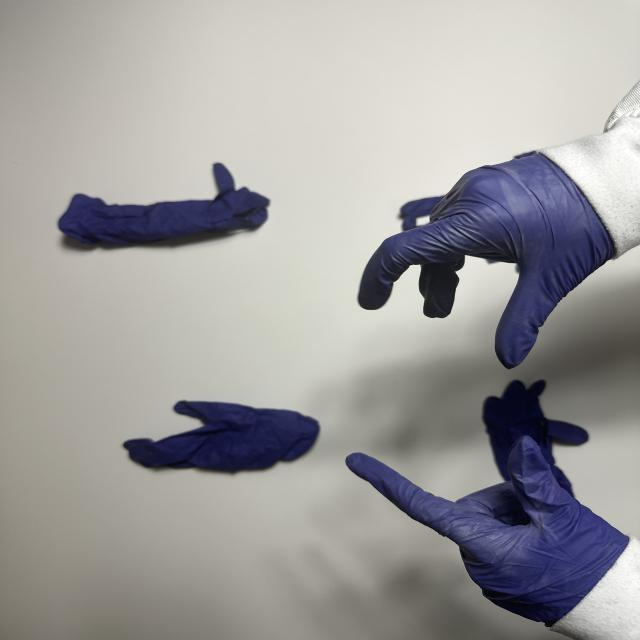gloves_contaminated: (359, 155, 613, 368), (346, 436, 629, 623)
